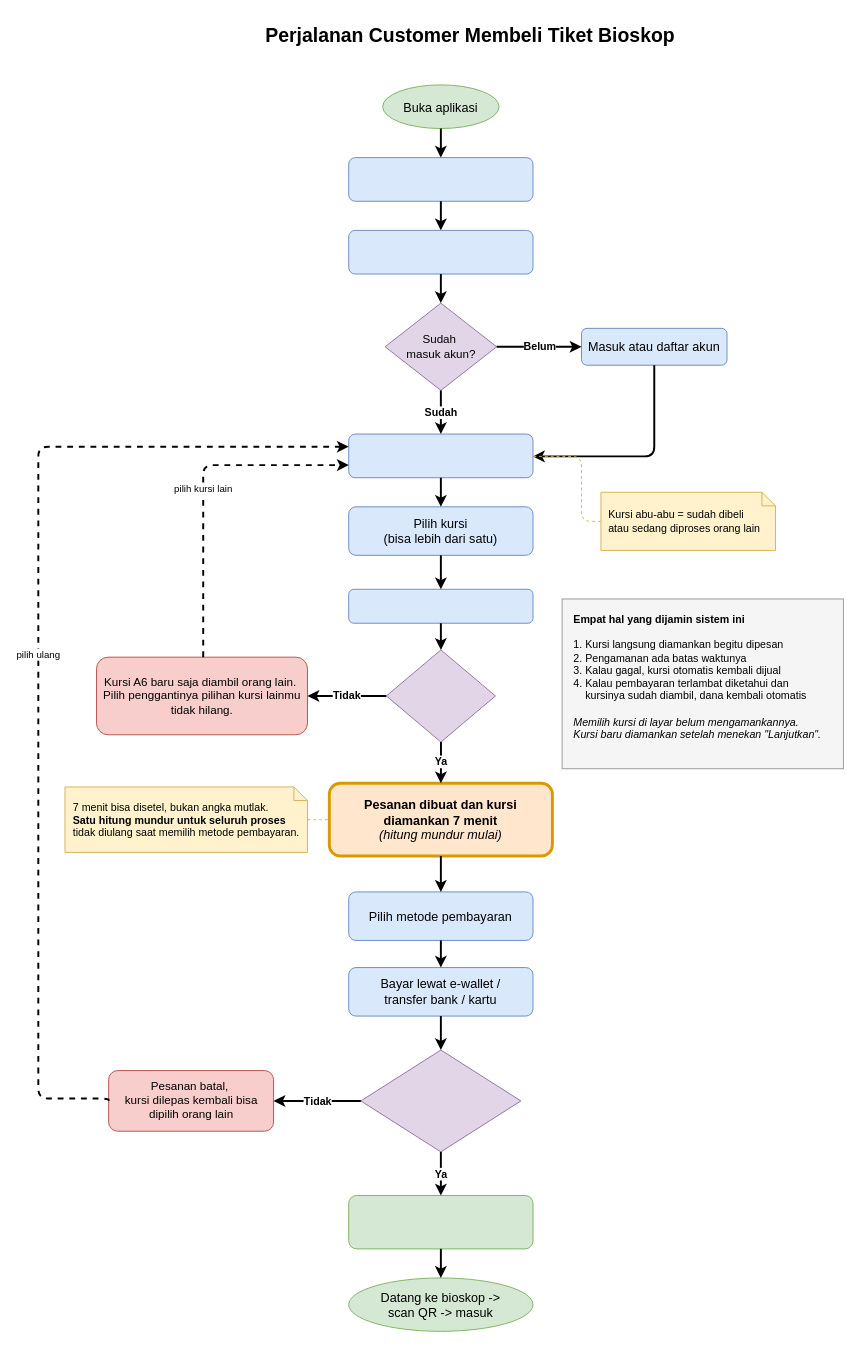
This 860x1348 diagram has some shape labels left out. The box of each missing label's shape, as (x1, y1, x2, y2) in pixels:
E-ticket + kode QR dikirim ke email / HP pada akun: (348, 1195, 533, 1249)
Kursi masih tersedia?: (385, 649, 495, 742)
Lihat denah kursi: (348, 433, 533, 478)
Pembayaran berhasil sebelum waktu habis?: (360, 1049, 521, 1152)
Pilih bioskop & jam tayang: (348, 229, 533, 274)
Pilih kota & film: (348, 157, 533, 201)
Tekan "Lanjutkan": (348, 588, 533, 623)
